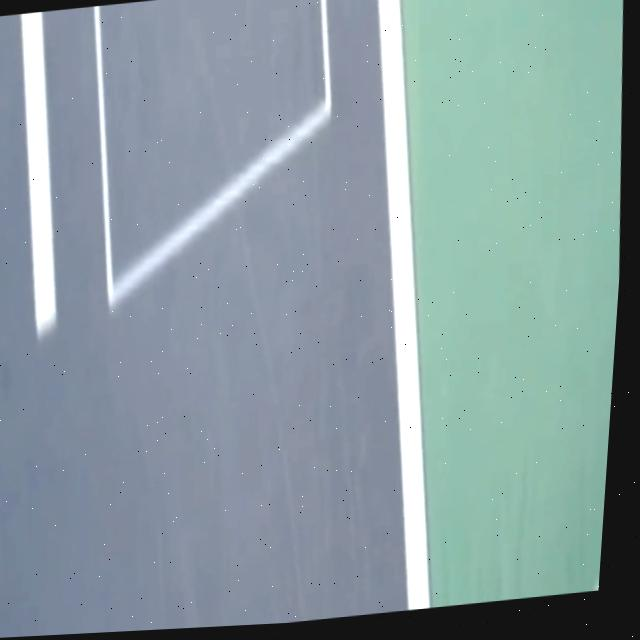center: (20, 12, 56, 337)
right: (378, 0, 429, 610)
